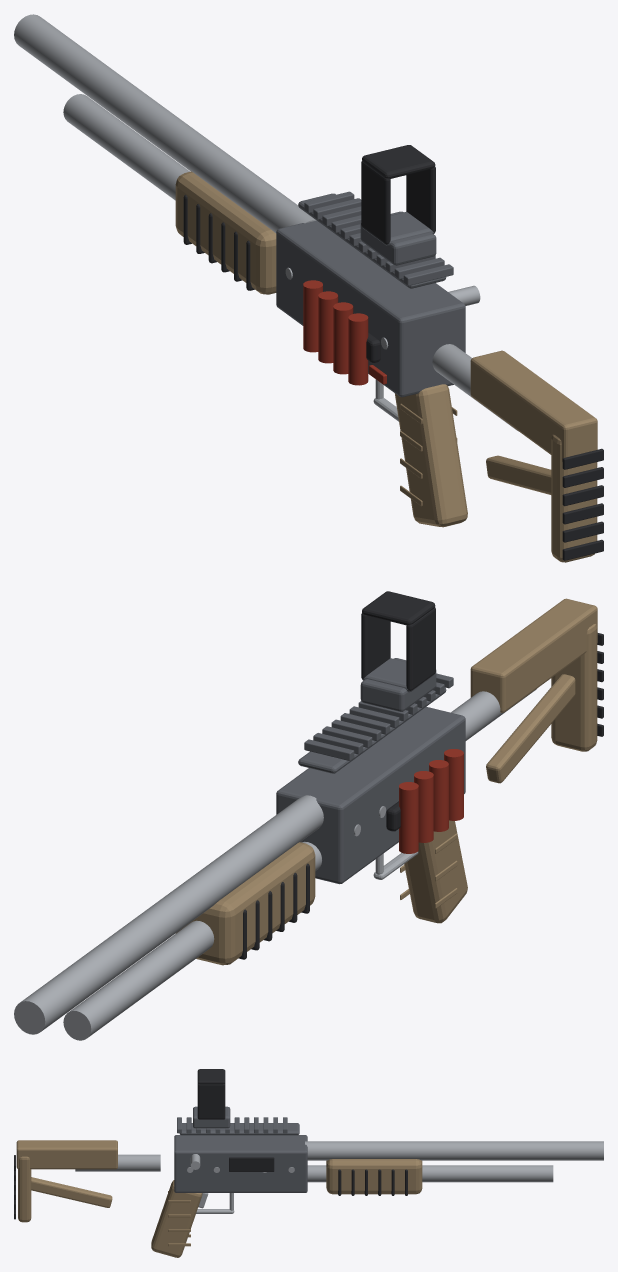
The picture shows the model from 3 angles, top to bottom: view 1: azimuth 30°, elevation 25°; view 2: azimuth 150°, elevation 25°; view 3: azimuth 270°, elevation 25°; orthographic projection. The views are drawn at different scales.
Parts seen in each view (by area): view 1: Shotgun receiver, Long barrel, Stock spine.001, PistolGrip.001, Pump, Shell tube, Stock butt.001, Holo hood.002, Stock lower brace.001, Optic mount.001, Holo roof.001, Holo hood.003 (+6 smaller); view 2: Shotgun receiver, Long barrel, Stock spine.001, Pump, Shell tube, PistolGrip.001, Stock butt.001, Stock lower brace.001, Holo hood.002, Optic mount.001, Holo roof.001, Holo hood.003 (+8 smaller); view 3: Shotgun receiver, Long barrel, Pump, Stock spine.001, Shell tube, PistolGrip.001, Stock lower brace.001, Holo hood.003, Picatinny base.001, Buffer tube.001, Stock butt.001, Ejection port.001 (+2 smaller).
Part boxes in pixels (box(x1,y1,x2,y2)): Shotgun receiver: box(276, 220, 465, 397); Long barrel: box(14, 14, 316, 233); Stock spine.001: box(470, 350, 597, 462); PistolGrip.001: box(395, 384, 467, 527); Pump: box(175, 171, 276, 294); Shell tube: box(63, 94, 189, 200); Stock butt.001: box(551, 434, 597, 562); Holo hood.002: box(361, 161, 390, 244); Stock lower brace.001: box(486, 455, 551, 494); Optic mount.001: box(360, 211, 436, 265); Holo roof.001: box(362, 145, 435, 178); Holo hood.003: box(406, 166, 435, 232); Shotgun receiver: box(276, 706, 465, 884); Long barrel: box(14, 795, 323, 1034); Stock spine.001: box(470, 598, 597, 712); Pump: box(176, 842, 315, 965); Shell tube: box(63, 841, 321, 1040); PistolGrip.001: box(404, 820, 467, 923); Stock butt.001: box(551, 624, 597, 751); Stock lower brace.001: box(486, 674, 575, 783); Holo hood.002: box(406, 607, 435, 690); Optic mount.001: box(360, 658, 436, 711); Holo roof.001: box(362, 591, 435, 625); Holo hood.003: box(361, 613, 390, 678); Shotgun receiver: box(174, 1135, 307, 1192); Long barrel: box(305, 1141, 603, 1160); Pump: box(326, 1159, 422, 1194); Stock spine.001: box(16, 1140, 117, 1169); Shell tube: box(307, 1165, 553, 1182); PistolGrip.001: box(151, 1180, 202, 1257); Stock lower brace.001: box(31, 1177, 112, 1207); Holo hood.003: box(197, 1084, 225, 1119); Picatinny base.001: box(179, 1123, 299, 1135); Buffer tube.001: box(75, 1154, 160, 1171); Stock butt.001: box(18, 1156, 31, 1222); Ejection port.001: box(229, 1157, 274, 1171).
Size of the model in its own units: 13.65 by 37.26 by 111.
